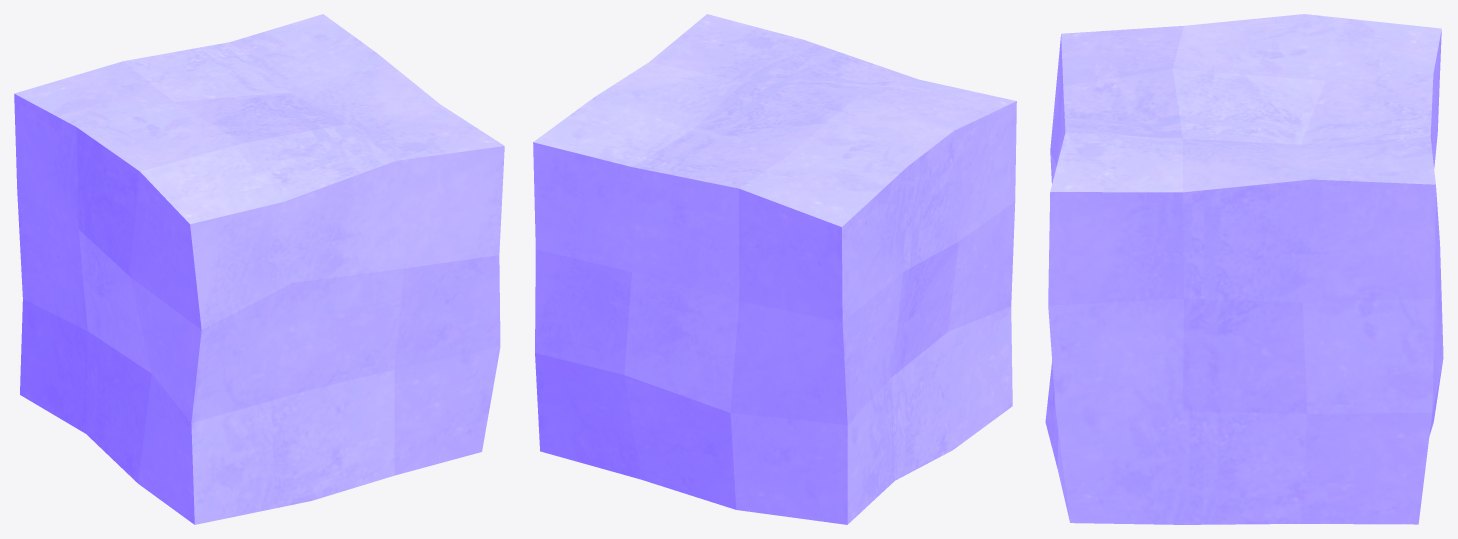
The model's file is ForceField.glb.
The picture shows the model from 3 angles, left to right: view 1: azimuth 30°, elevation 25°; view 2: azimuth 150°, elevation 25°; view 3: azimuth 270°, elevation 25°; orthographic projection. The views are drawn at different scales.
Parts seen in each view (by area): view 1: Cube; view 2: Cube; view 3: Cube.
Part boxes in pixels (x1,y1,x2,y2): Cube: [14, 14, 504, 524]; Cube: [533, 14, 1016, 524]; Cube: [1045, 14, 1443, 524].
Bounding box in the file's own units: 1.92 × 1.94 × 1.93.
Materials: 1 (1 with a texture image).
